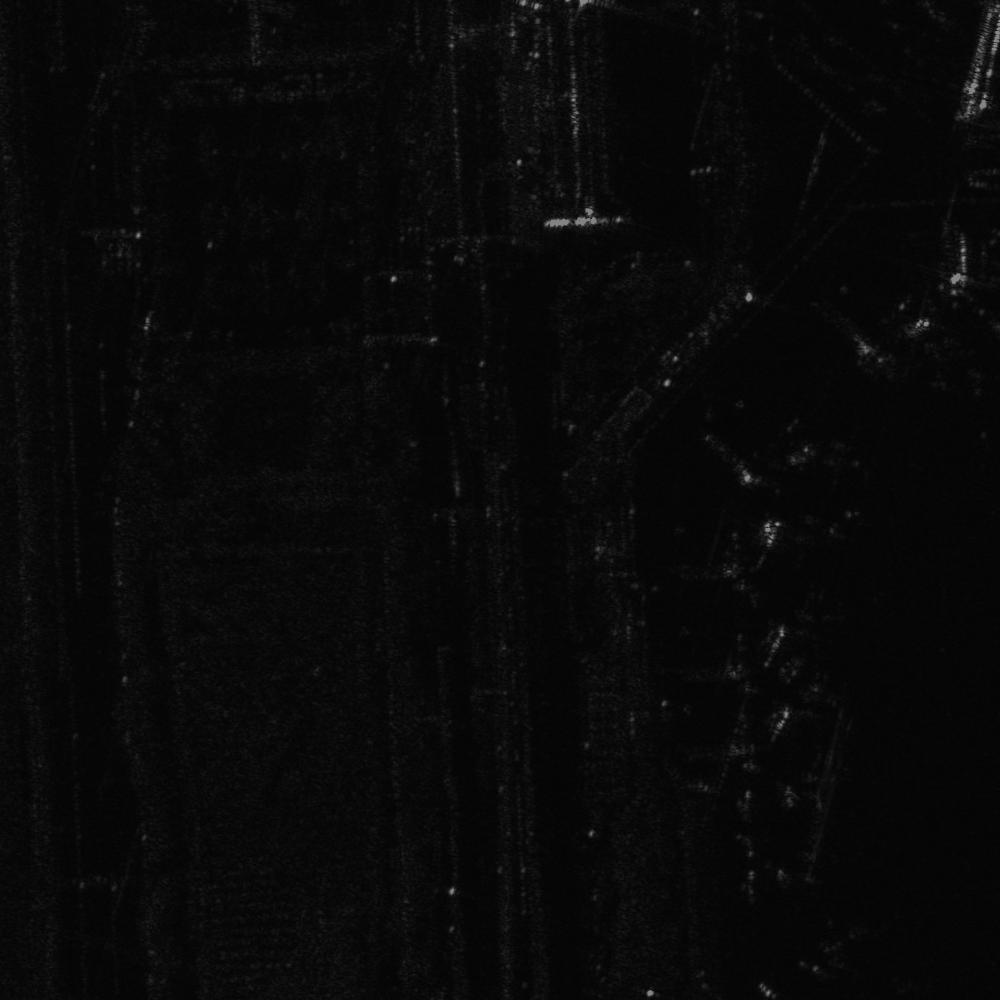A220: (779, 918, 900, 983)
A320/321: (754, 571, 870, 668)
